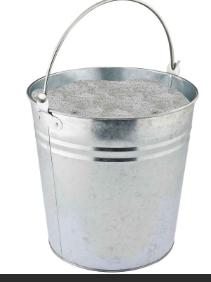SEAU: (0, 2, 209, 278)
